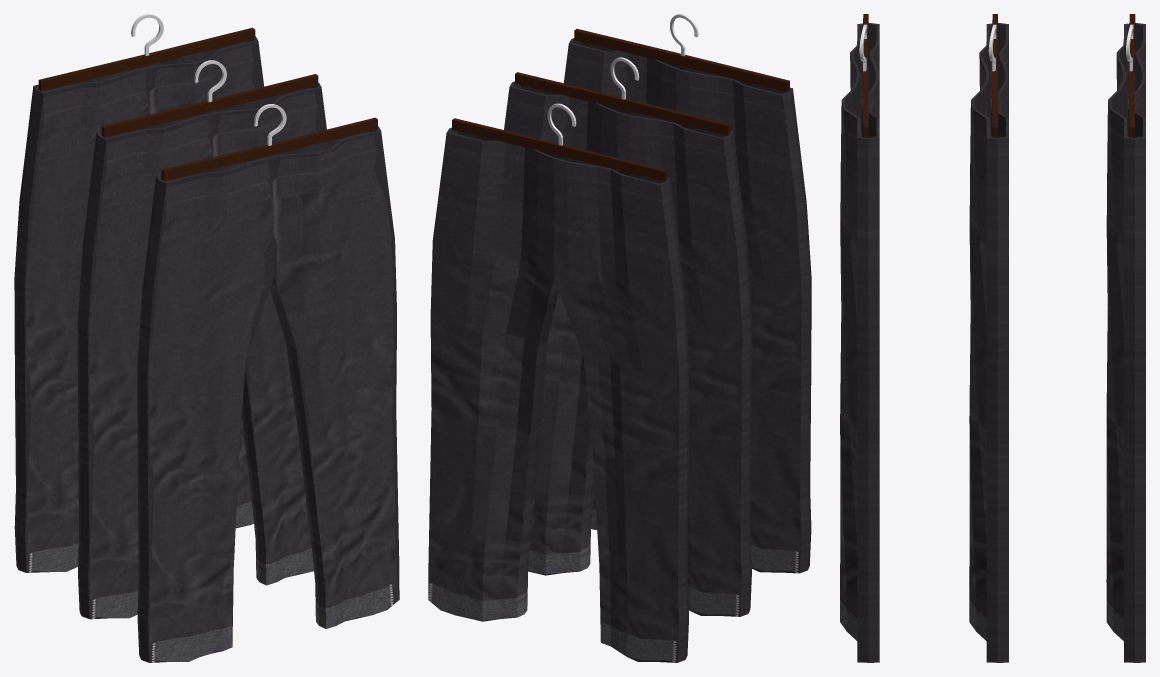
File: inariblck3.glb
3 views of the same model, side by side, from view 1: azimuth 30°, elevation 25°; view 2: azimuth 150°, elevation 25°; view 3: azimuth 270°, elevation 25° (orthographic). The views are drawn at different scales.
Visible parts, largest first — view 1: Plane.003; view 2: Plane.003; view 3: Plane.003.
Boxes of the visible parts, x1,y1,x2,y2 form: Plane.003: [14, 14, 399, 662]; Plane.003: [428, 14, 811, 662]; Plane.003: [840, 14, 1145, 662].
Bounding box in the file's own units: 0.2381 × 0.4706 × 0.2251.
3 materials, 3 textured.
